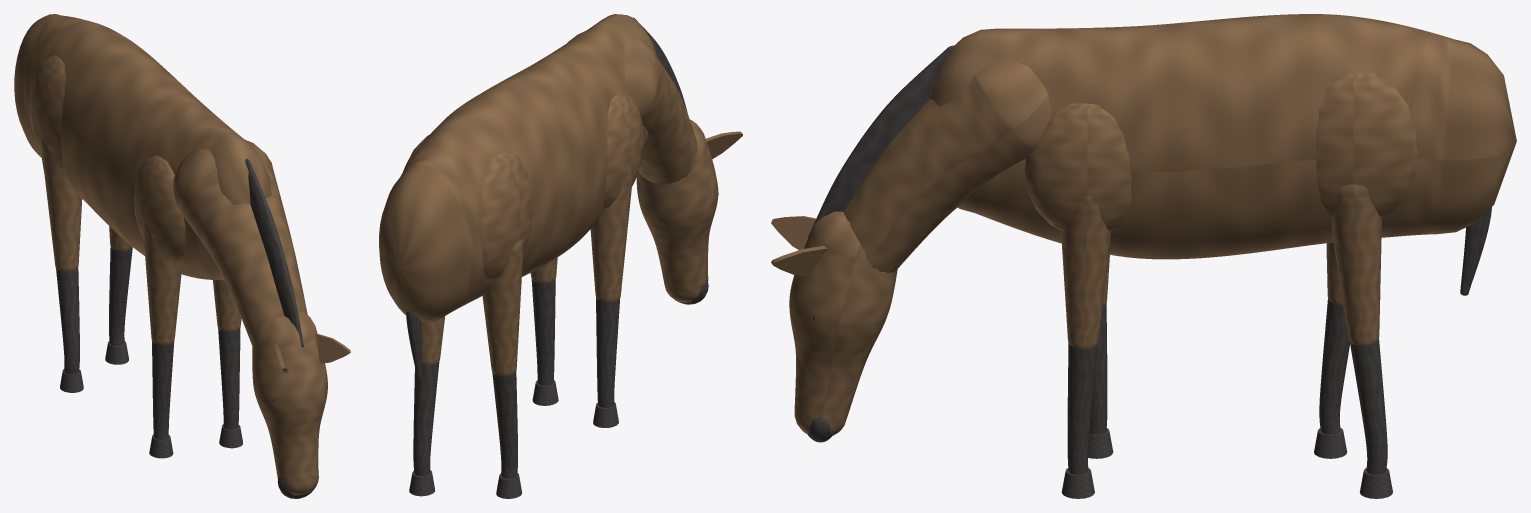
The model's file is farm-and-working-animals-hd-horse-grazing-3d1f4737__29170.glb.
3 views of the same model, side by side, from view 1: azimuth 30°, elevation 25°; view 2: azimuth 150°, elevation 25°; view 3: azimuth 270°, elevation 25° (orthographic). The views are drawn at different scales.
Parts seen in each view (by area): view 1: horse-grazing; view 2: horse-grazing; view 3: horse-grazing.
Part boxes in pixels (x1,y1,x2,y2): horse-grazing: (14, 14, 350, 498); horse-grazing: (379, 14, 742, 498); horse-grazing: (771, 14, 1516, 498).
Bounding box in the file's own units: 0.5075 × 1.64 × 2.44.
2 materials, 2 textured.
